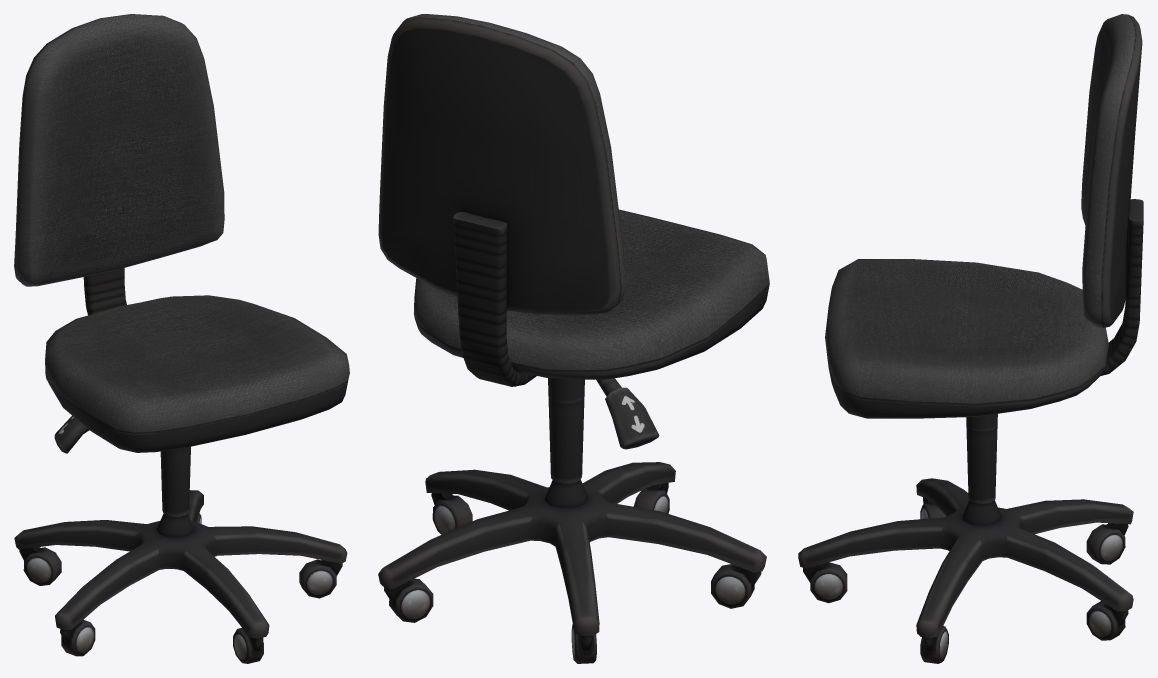
Rendered from OfficeChair04.FBX.
3 renders of one model, left to right at view 1: azimuth 30°, elevation 25°; view 2: azimuth 150°, elevation 25°; view 3: azimuth 270°, elevation 25°, orthographic. The views are drawn at different scales.
Visible parts, largest first — view 1: OfficeChair04; view 2: OfficeChair04; view 3: OfficeChair04.
Part boxes in pixels (x1,y1,x2,y2): OfficeChair04: (14, 14, 349, 663); OfficeChair04: (378, 14, 769, 663); OfficeChair04: (798, 14, 1143, 663).
Size of what is drawn, in the model's own units: 0.7251 by 1.28 by 0.7102.
